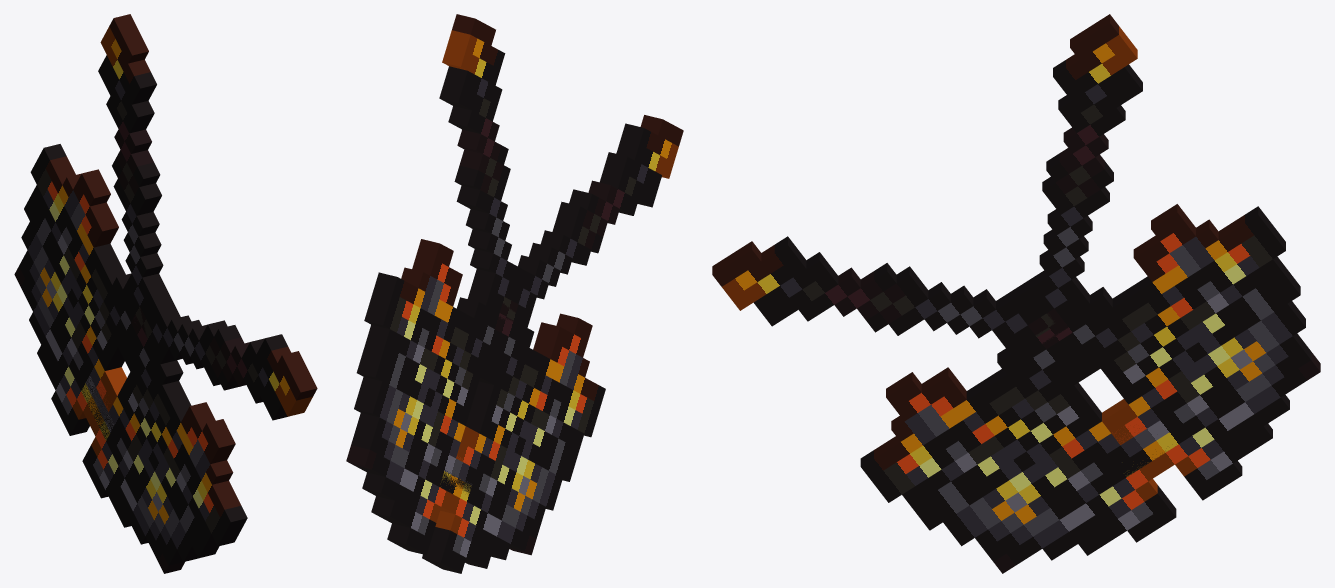
The model's file is molten_blazing_greathammer.glb.
The picture shows the model from 3 angles, left to right: view 1: azimuth 30°, elevation 25°; view 2: azimuth 150°, elevation 25°; view 3: azimuth 270°, elevation 25°; orthographic projection. The views are drawn at different scales.
Parts seen in each view (by area): view 1: off__Tool_L, main__Tool_R; view 2: main__Tool_R, off__Tool_L; view 3: main__Tool_R, off__Tool_L.
Boxes of the visible parts, bbox=[...] form: off__Tool_L: bbox=[82, 14, 247, 573]; main__Tool_R: bbox=[14, 144, 317, 439]; main__Tool_R: bbox=[346, 115, 683, 555]; off__Tool_L: bbox=[422, 14, 605, 573]; main__Tool_R: bbox=[712, 204, 1320, 500]; off__Tool_L: bbox=[860, 14, 1176, 573].
Bounding box in the file's own units: 0.0938 × 2.76 × 2.76.
1 material, 1 textured.
